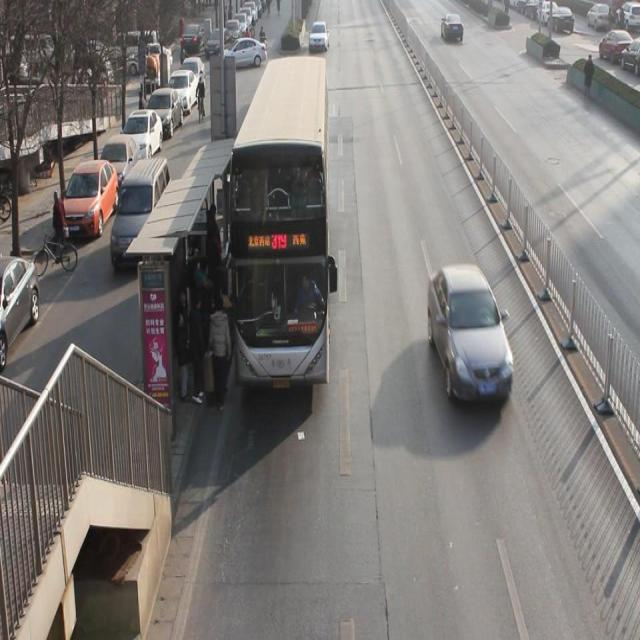car: (427, 272, 515, 406), (441, 15, 465, 42), (310, 23, 329, 50)
van: (232, 58, 331, 389)
